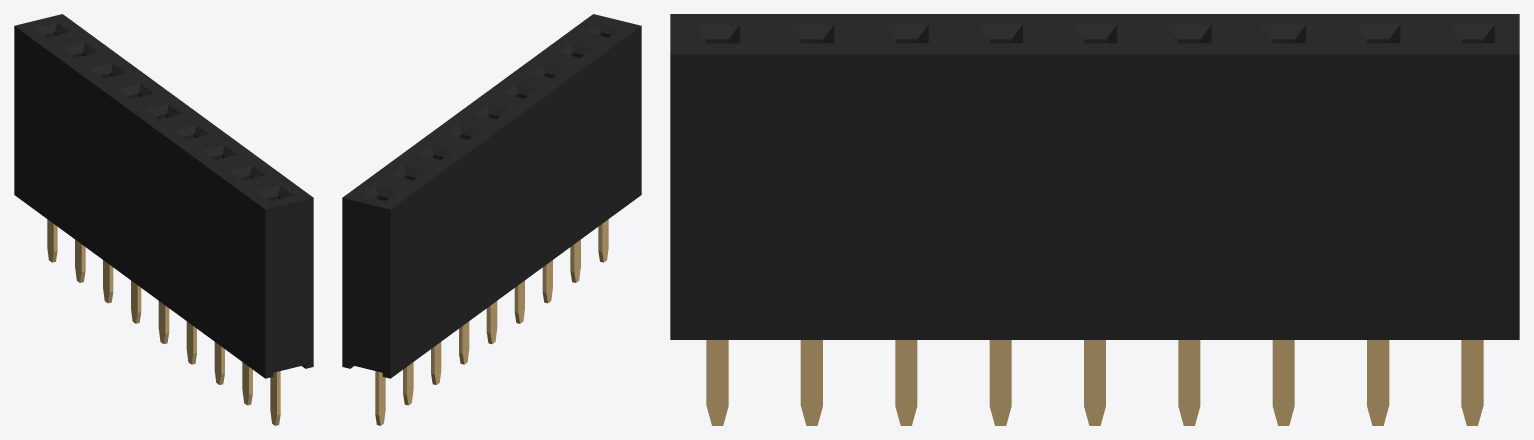
File: PinSocket_1x09_P2.54mm_Vertical.glb
The picture shows the model from 3 angles, left to right: view 1: azimuth 30°, elevation 25°; view 2: azimuth 150°, elevation 25°; view 3: azimuth 270°, elevation 25°; orthographic projection. The views are drawn at different scales.
Visible parts, largest first — view 1: =>[0:1:1:3]; view 2: =>[0:1:1:3]; view 3: =>[0:1:1:3].
Part boxes in pixels (x1,y1,x2,y2): =>[0:1:1:3]: [14, 14, 313, 425]; =>[0:1:1:3]: [342, 14, 641, 425]; =>[0:1:1:3]: [670, 14, 1519, 425].
Size of the model in its own units: 0.00254 by 0.0116 by 0.0229.
